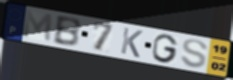7: (92, 21, 114, 53)
B: (52, 15, 83, 48)
G: (151, 33, 180, 64)
K: (119, 26, 145, 60)
M: (21, 9, 54, 44)
S: (179, 38, 210, 69)
